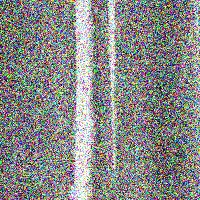scratches: (68, 1, 101, 200), (107, 1, 118, 188)
